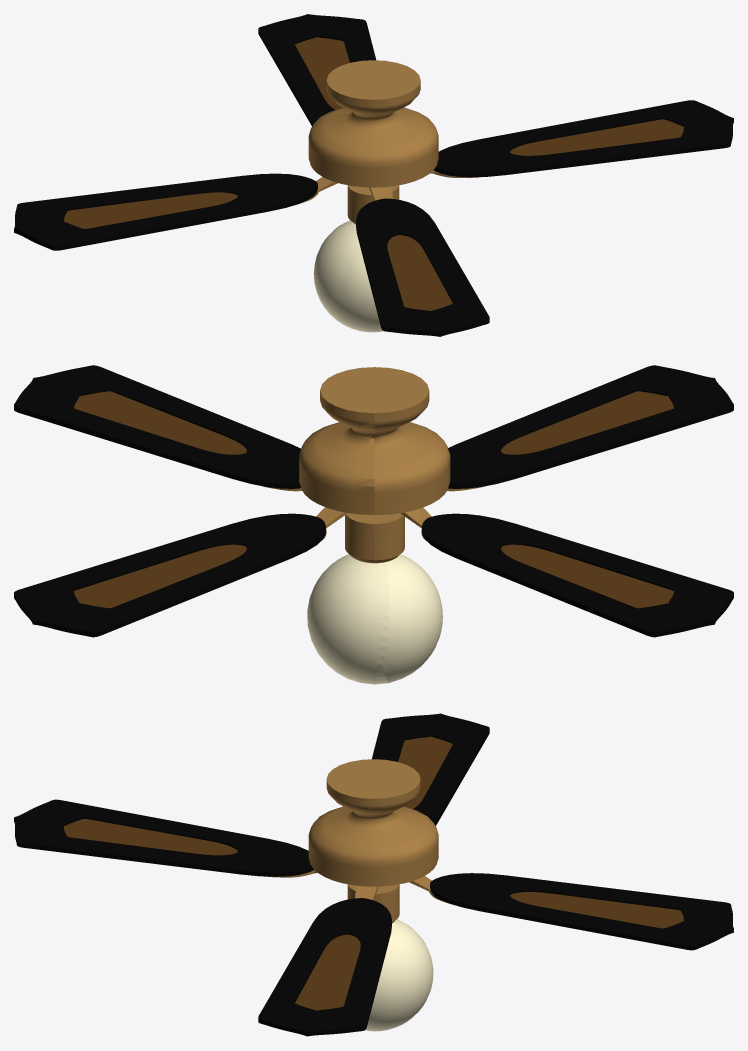
Rendered from lampadario_pale.obj.
3 renders of one model, top to bottom at view 1: azimuth 30°, elevation 25°; view 2: azimuth 150°, elevation 25°; view 3: azimuth 270°, elevation 25°, orthographic. The views are drawn at different scales.
Visible parts, largest first — view 1: CeilingFan5028_2_2, CeilingFan_1_1, CeilingFan6820_3_3, CeilingFan6900_4_4; view 2: CeilingFan5028_2_2, CeilingFan_1_1, CeilingFan6820_3_3, CeilingFan6900_4_4; view 3: CeilingFan5028_2_2, CeilingFan_1_1, CeilingFan6820_3_3, CeilingFan6900_4_4.
Part boxes in pixels (<box>): CeilingFan5028_2_2: <box>14,14,733,336</box>; CeilingFan_1_1: <box>296,60,481,224</box>; CeilingFan6820_3_3: <box>64,37,684,310</box>; CeilingFan6900_4_4: <box>313,220,383,332</box>; CeilingFan5028_2_2: <box>14,365,733,637</box>; CeilingFan_1_1: <box>263,367,484,563</box>; CeilingFan6820_3_3: <box>73,391,674,608</box>; CeilingFan6900_4_4: <box>307,554,442,684</box>; CeilingFan5028_2_2: <box>14,713,733,1036</box>; CeilingFan_1_1: <box>268,759,449,923</box>; CeilingFan6820_3_3: <box>63,736,684,1010</box>; CeilingFan6900_4_4: <box>365,919,433,1031</box>.
Bounding box in the file's own units: 108 × 38.99 × 103.
